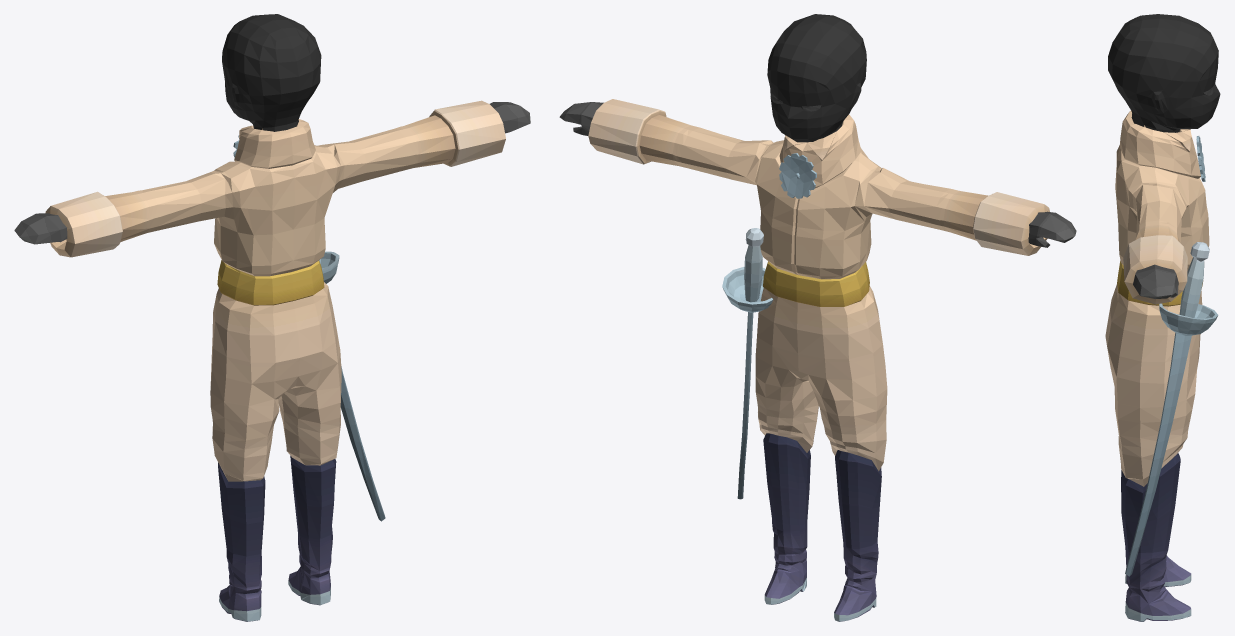
The model's file is CharSkyKid_Body_AP11Sword_01.glb.
3 renders of one model, left to right at view 1: azimuth 30°, elevation 25°; view 2: azimuth 150°, elevation 25°; view 3: azimuth 270°, elevation 25°, orthographic.
Parts seen in each view (by area): view 1: CharSkyKid_Body_AP11Sword_01; view 2: CharSkyKid_Body_AP11Sword_01; view 3: CharSkyKid_Body_AP11Sword_01.
Boxes of the visible parts, left/top/right/bottom form: CharSkyKid_Body_AP11Sword_01: left=14, top=14, right=530, bottom=621; CharSkyKid_Body_AP11Sword_01: left=559, top=14, right=1076, bottom=621; CharSkyKid_Body_AP11Sword_01: left=1105, top=14, right=1220, bottom=621.
Size of the model in its own units: 13.83 by 15.03 by 2.7.
1 material, 1 textured.
